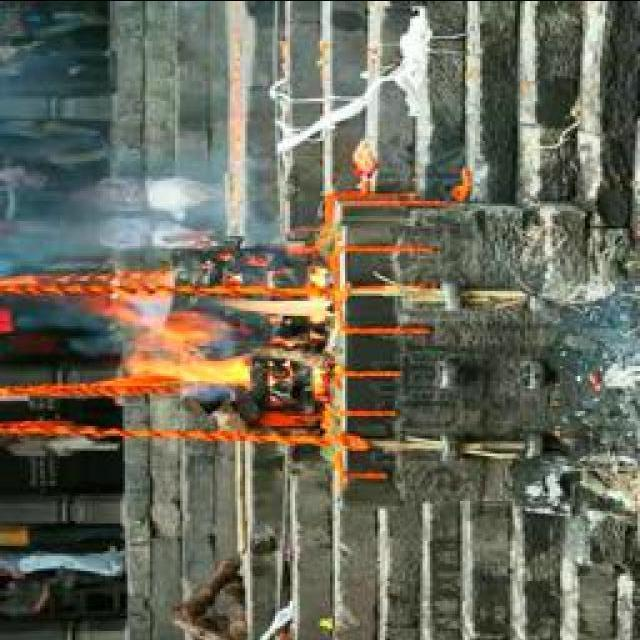Fire: (119, 295, 342, 385)
